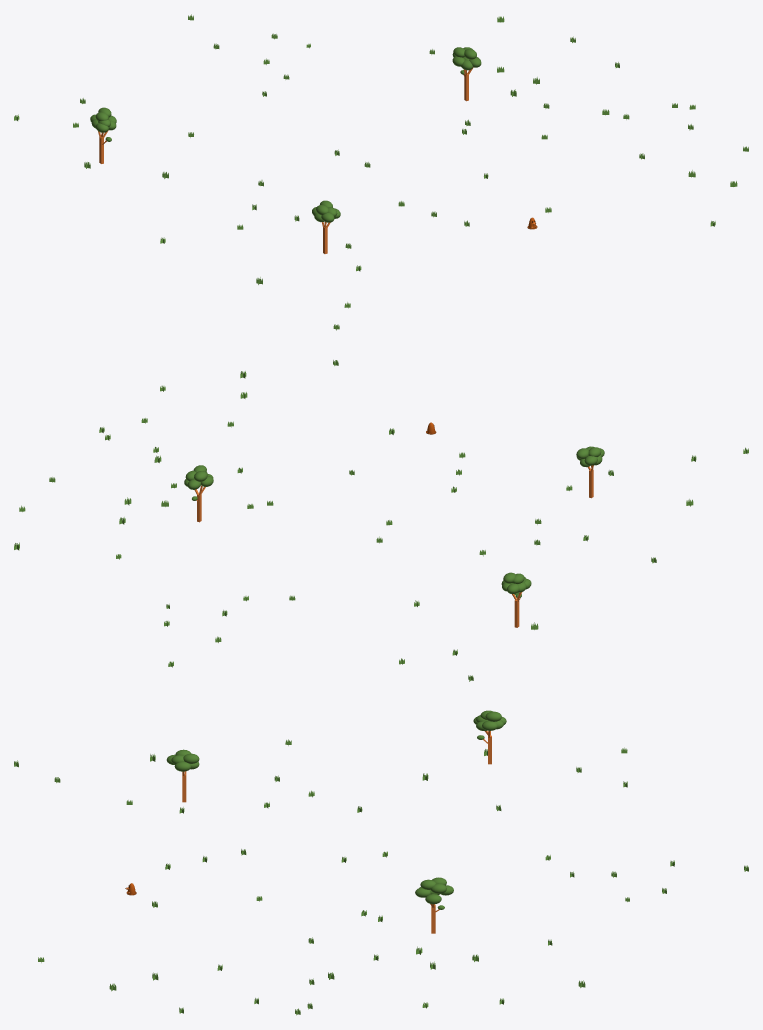
Rendered from newSavanna.FBX.
3 views of the same model, one above another, from view 1: azimuth 30°, elevation 25°; view 2: azimuth 150°, elevation 25°; view 3: azimuth 270°, elevation 25° (orthographic). The views are drawn at different scales.
Size of what is drawn, in the model's own units: 175 by 16.3 by 200.
10 materials, 10 textured.
